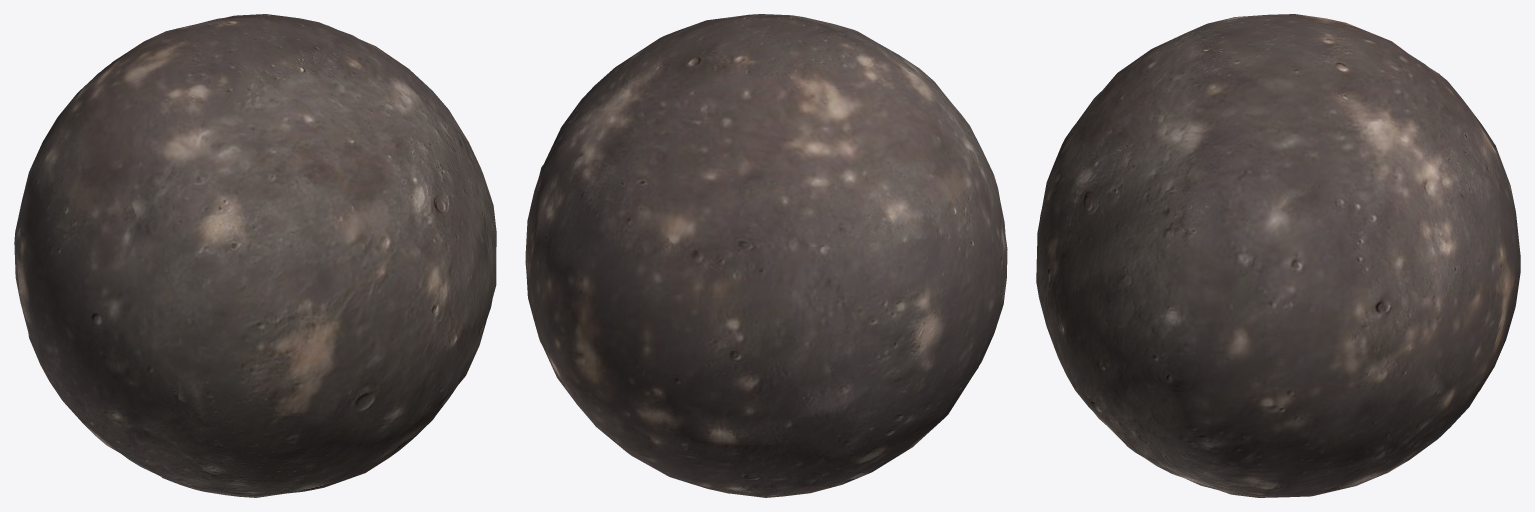
File: mercury.glb
The picture shows the model from 3 angles, left to right: view 1: azimuth 30°, elevation 25°; view 2: azimuth 150°, elevation 25°; view 3: azimuth 270°, elevation 25°; orthographic projection.
Bounding box in the file's own units: 1.9 × 1.9 × 1.9.
1 material, 1 textured.
